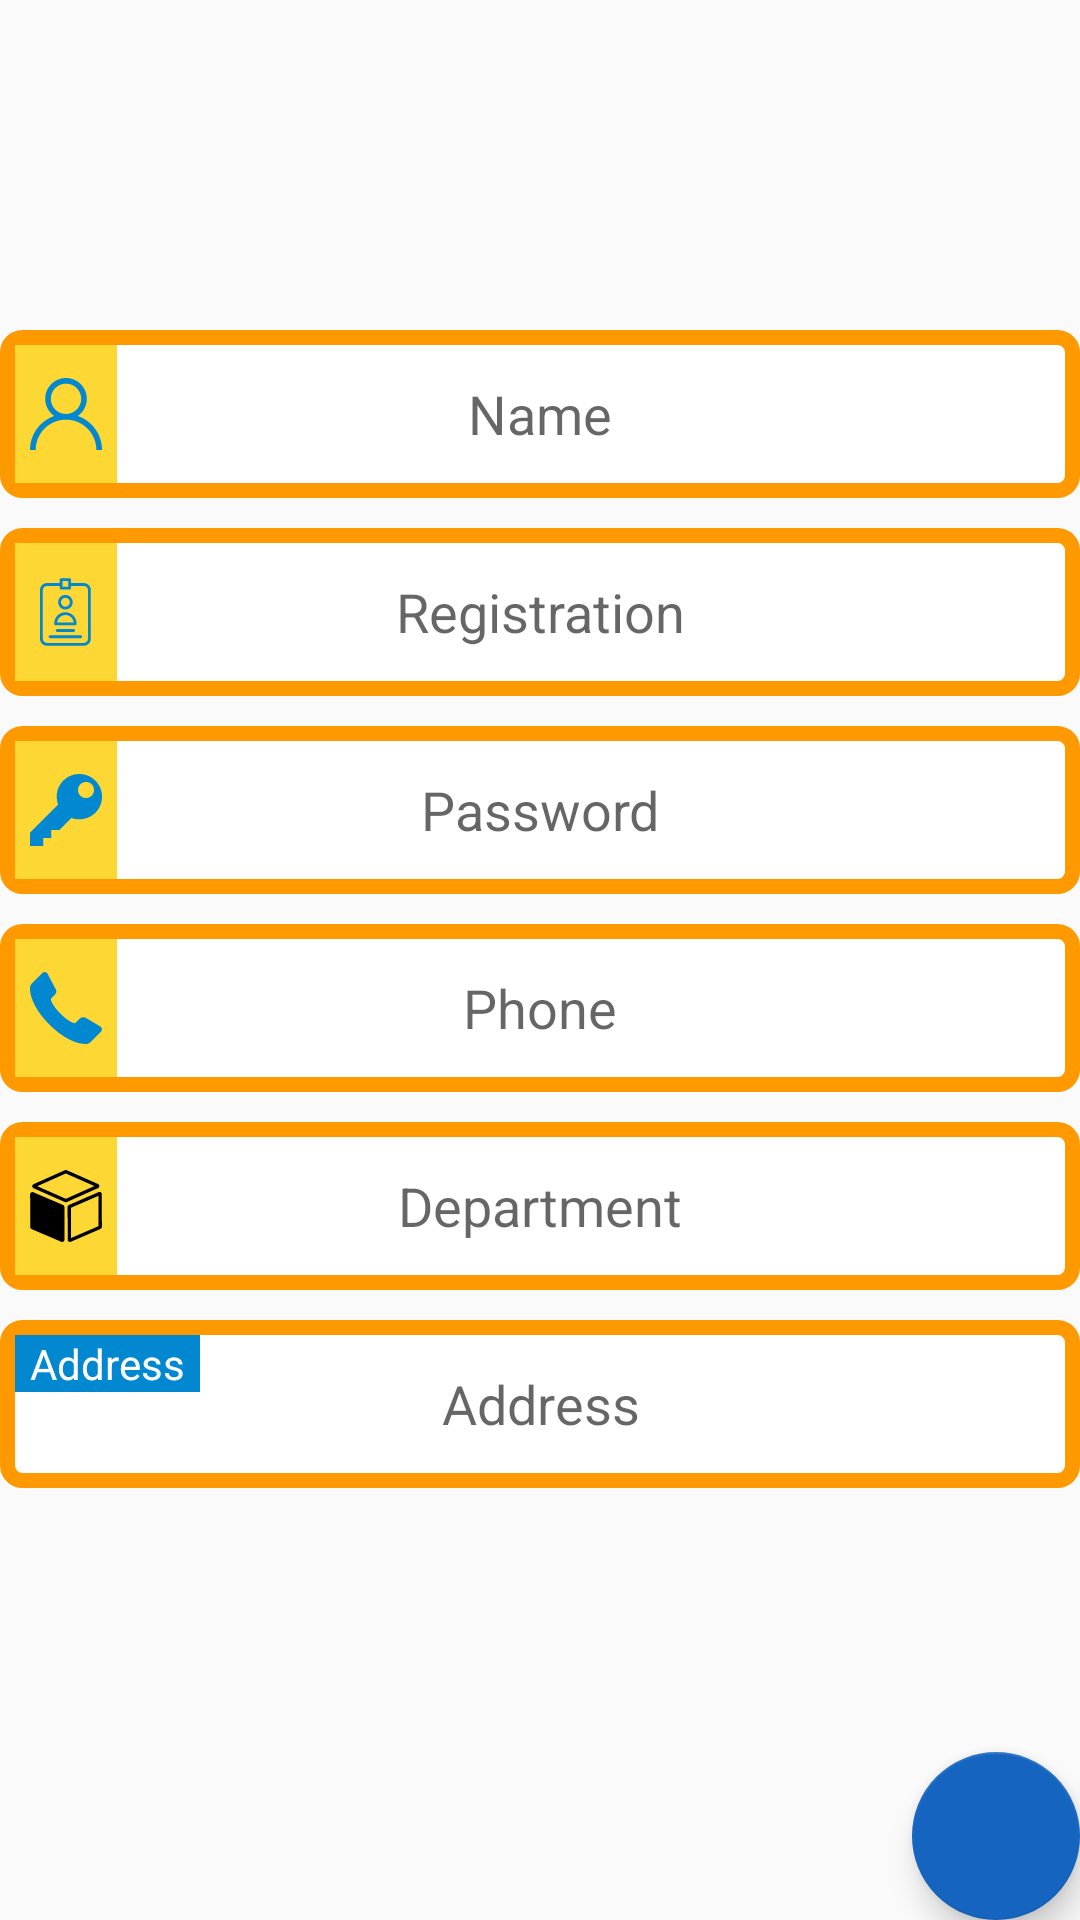

Icons on this 1080 × 1920 Android screen, each with its box as (x1, y1, x2, y2):
home user: (15, 345, 117, 483)
reg: (15, 543, 117, 681)
